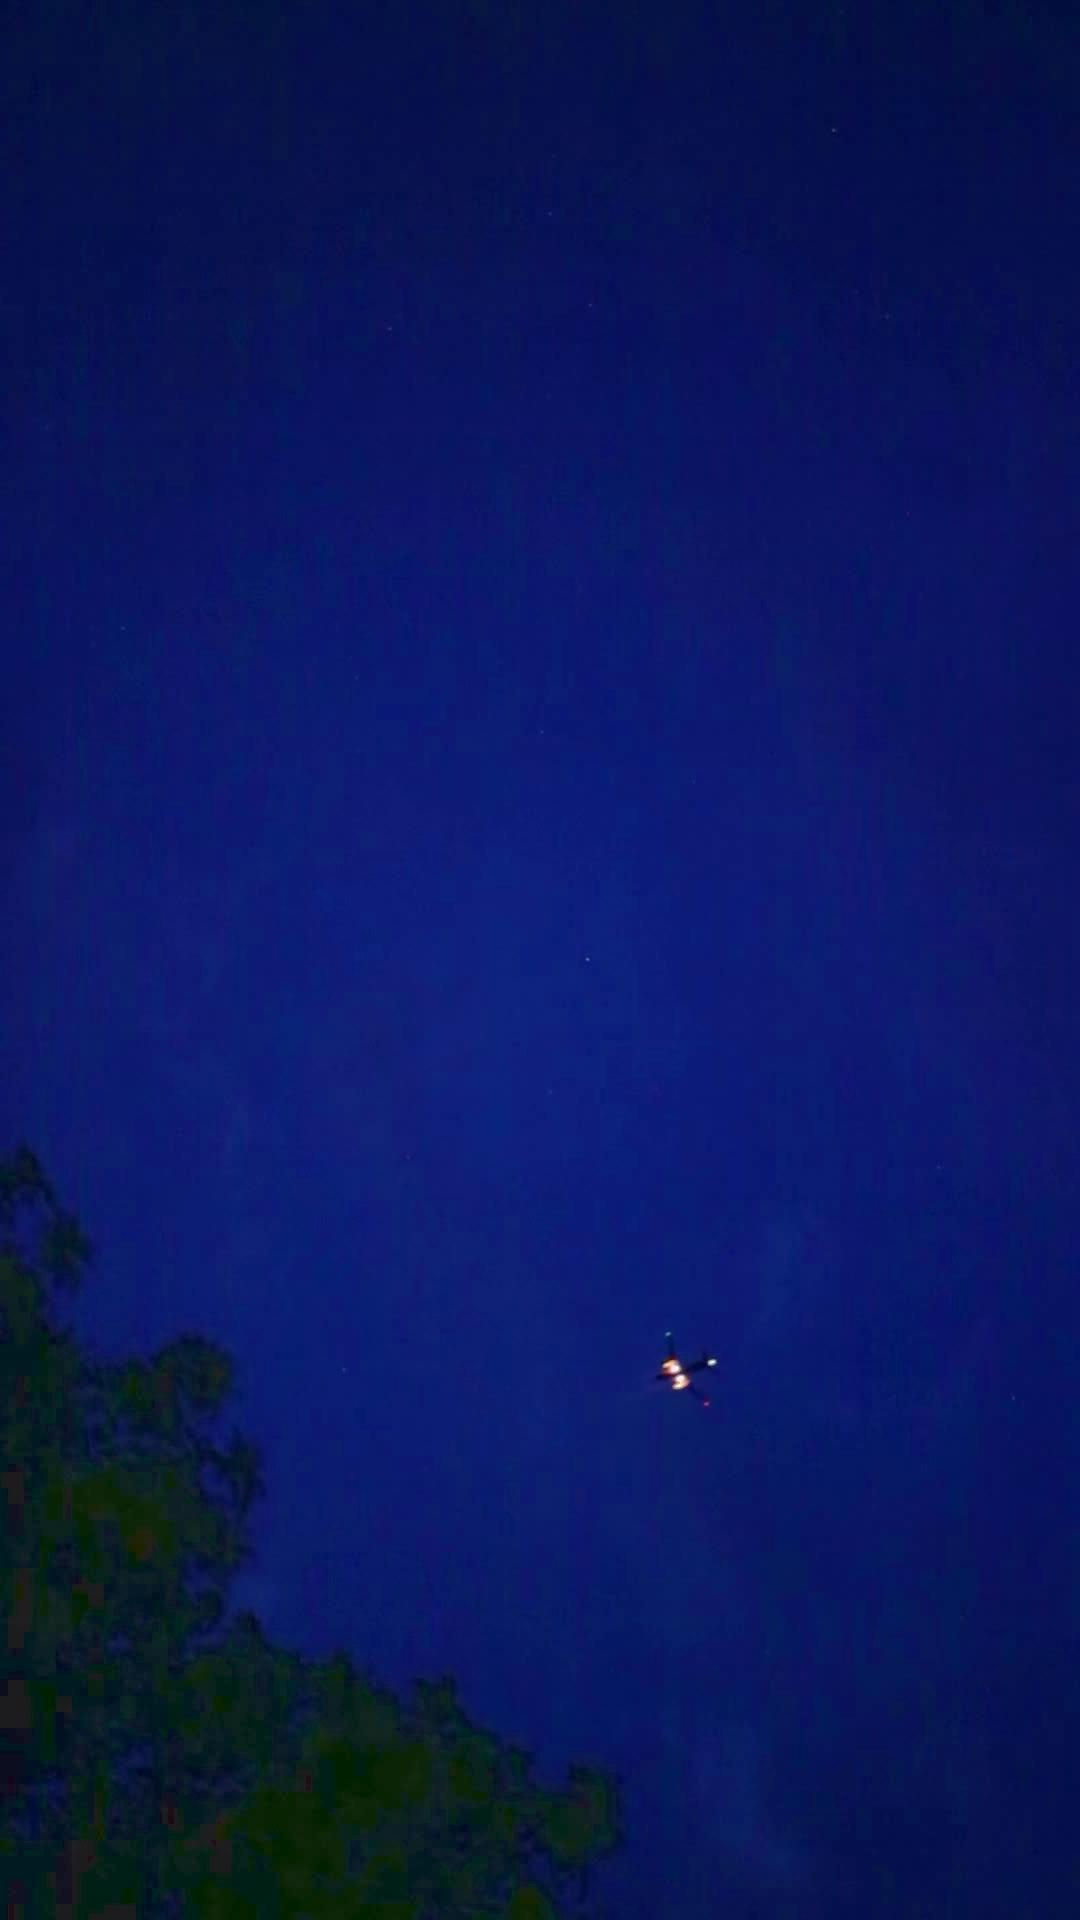Plane: (636, 1324, 735, 1420)
